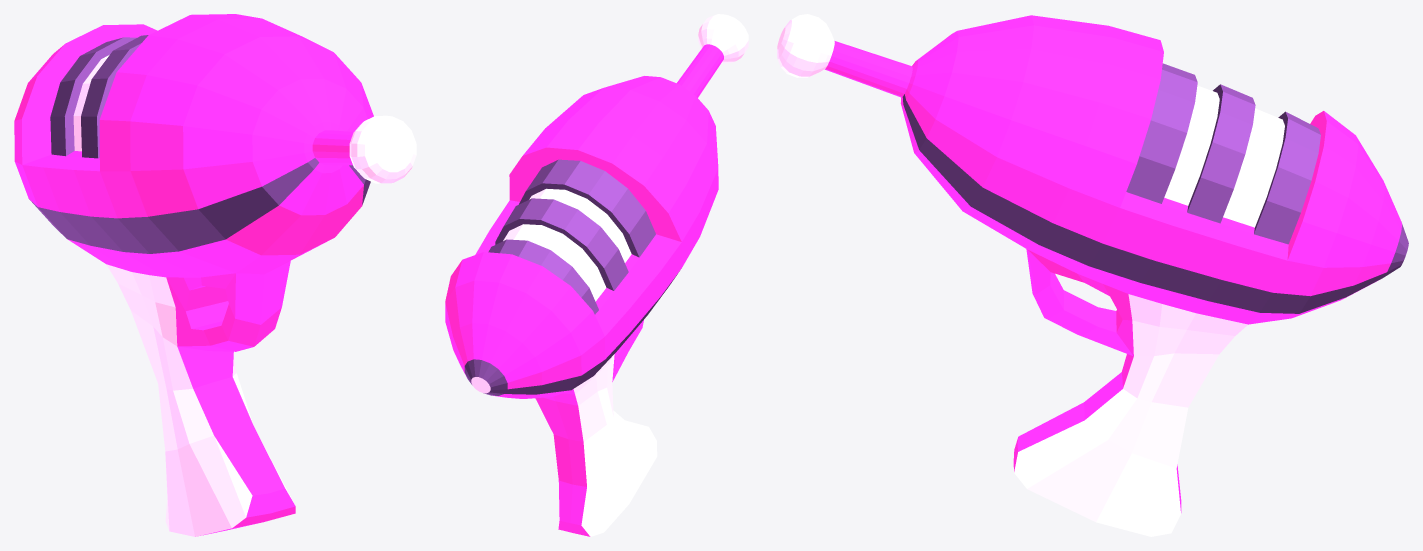
Rendered from SM_Laser.fbx.
3 renders of one model, left to right at view 1: azimuth 30°, elevation 25°; view 2: azimuth 150°, elevation 25°; view 3: azimuth 270°, elevation 25°, orthographic. The views are drawn at different scales.
Visible parts, largest first — view 1: SM_Laser; view 2: SM_Laser; view 3: SM_Laser.
Boxes of the visible parts, x1,y1,x2,y2 form: SM_Laser: (14,14,416,536); SM_Laser: (445,14,748,536); SM_Laser: (777,14,1408,536).
Bounding box in the file's own units: 0.2191 × 0.4989 × 0.5636.
